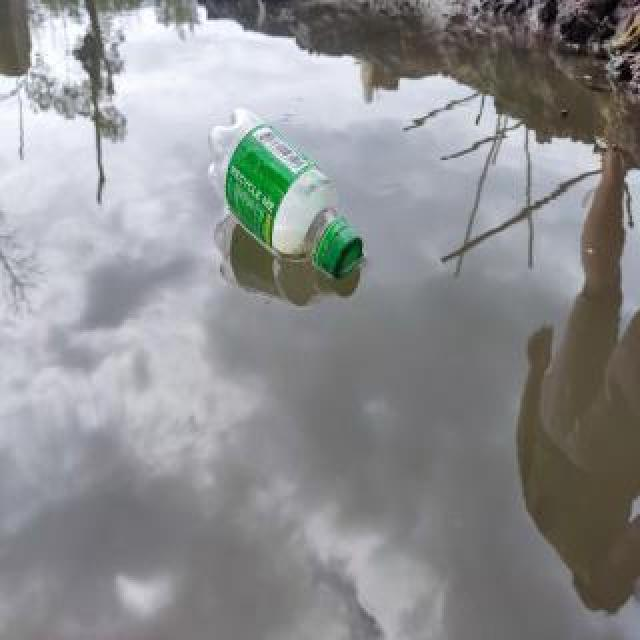bottle: (203, 101, 367, 285)
